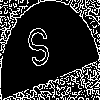S: (25, 24, 54, 78)
